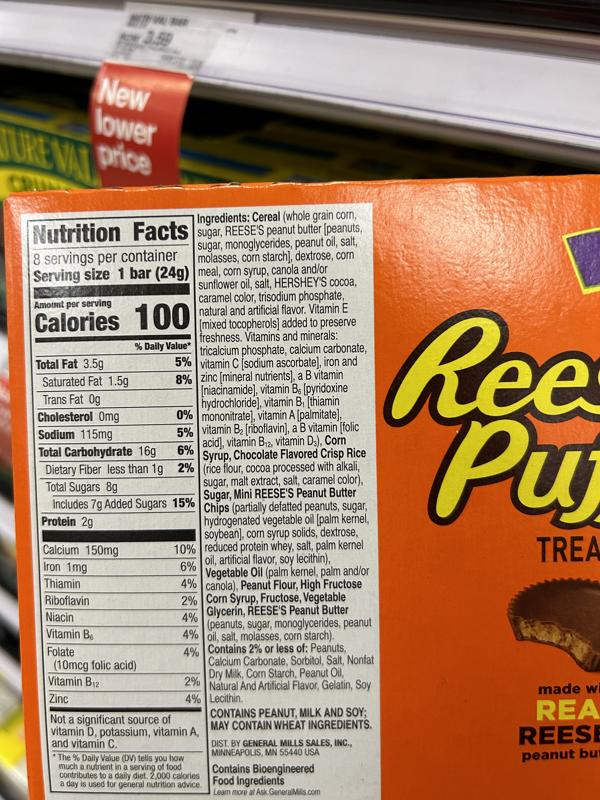ingredients: (195, 210, 377, 705)
